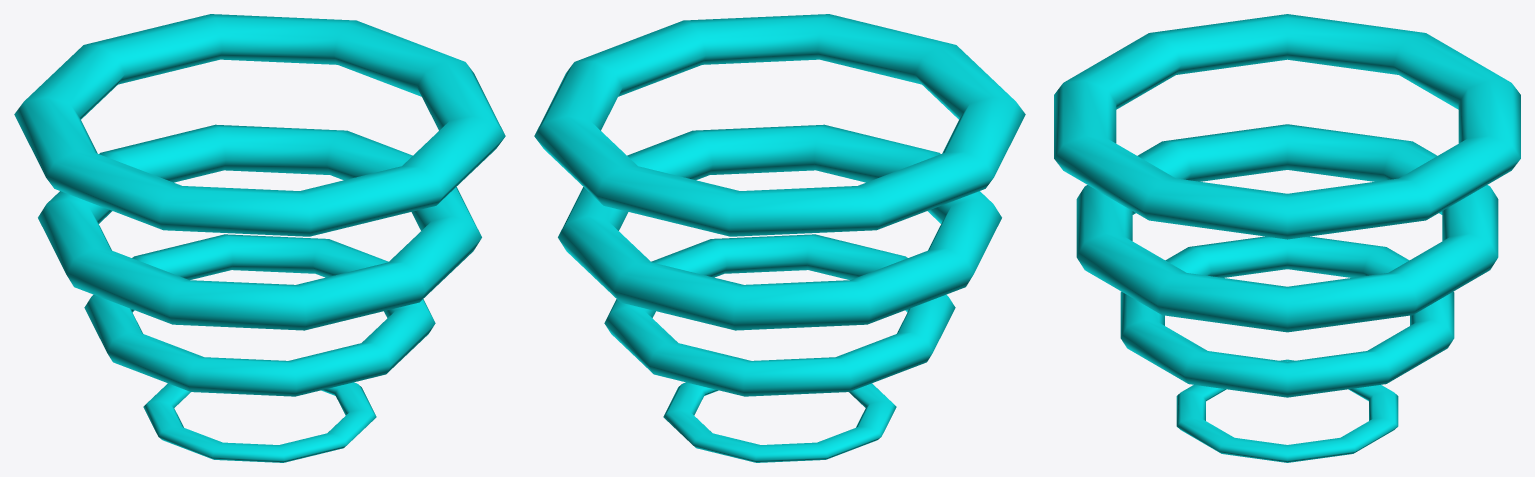
The model's file is Pickup_ShockWave_001.fbx.
3 views of the same model, side by side, from view 1: azimuth 30°, elevation 25°; view 2: azimuth 150°, elevation 25°; view 3: azimuth 270°, elevation 25° (orthographic).
Parts seen in each view (by area): view 1: polySurface6, polySurface5, polySurface4, polySurface3; view 2: polySurface6, polySurface5, polySurface4, polySurface3; view 3: polySurface6, polySurface5, polySurface4, polySurface3.
Boxes of the visible parts, bbox=[...] form: polySurface6: bbox=[14, 14, 505, 236]; polySurface5: bbox=[38, 124, 481, 330]; polySurface4: bbox=[84, 234, 435, 396]; polySurface3: bbox=[143, 382, 376, 462]; polySurface6: bbox=[534, 14, 1025, 236]; polySurface5: bbox=[558, 124, 1001, 330]; polySurface4: bbox=[604, 234, 955, 396]; polySurface3: bbox=[663, 382, 896, 462]; polySurface6: bbox=[1054, 14, 1520, 239]; polySurface5: bbox=[1076, 124, 1498, 332]; polySurface4: bbox=[1120, 236, 1454, 397]; polySurface3: bbox=[1176, 359, 1398, 462].
Size of the model in its own units: 170 by 118 by 162.
